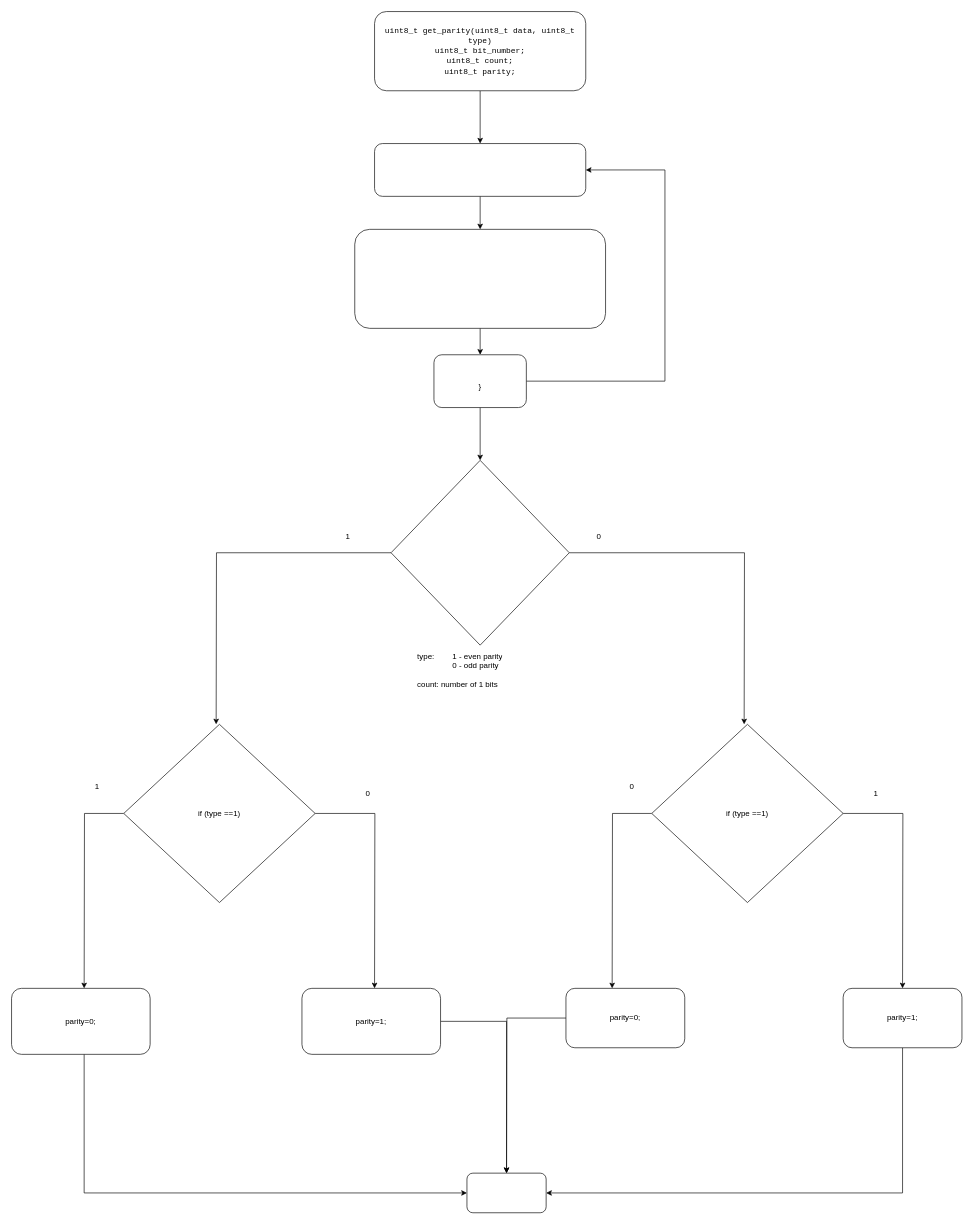
Some shapes in this 974 by 1224 pixel diagram are drawn without their labels. Each missing label, with the box of its shape:
end: (466, 1172, 546, 1213)
for (bit_number = 0; bit_number < 8; bit_number++){: (374, 143, 586, 196)
if ((data & 1) == 1) { count++; }: (354, 229, 606, 328)
if (count mod 2 == 0): (390, 460, 569, 645)
